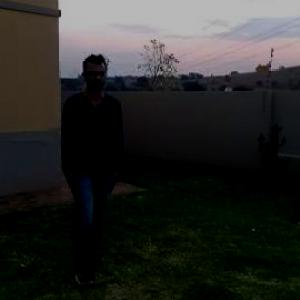follow: (57, 55, 122, 246)
